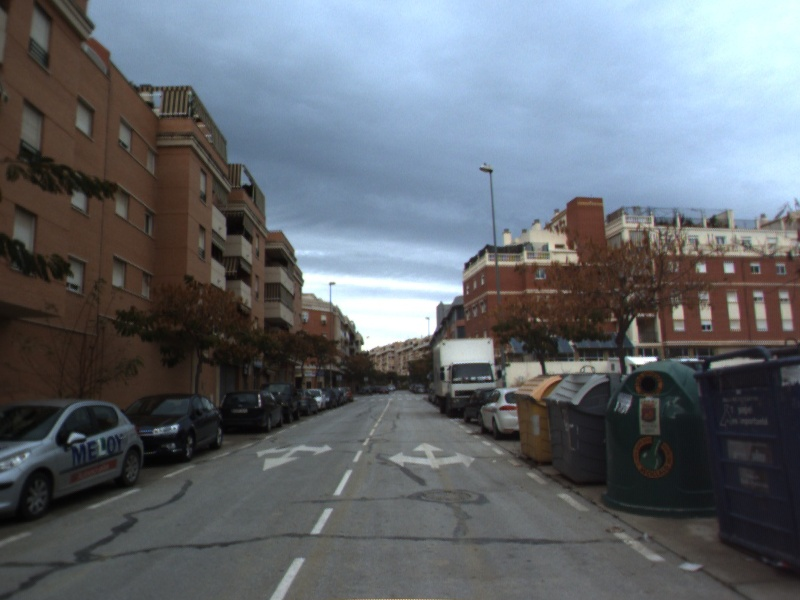STRAIGHT_LEFT_RIGHT: (386, 440, 477, 470)
